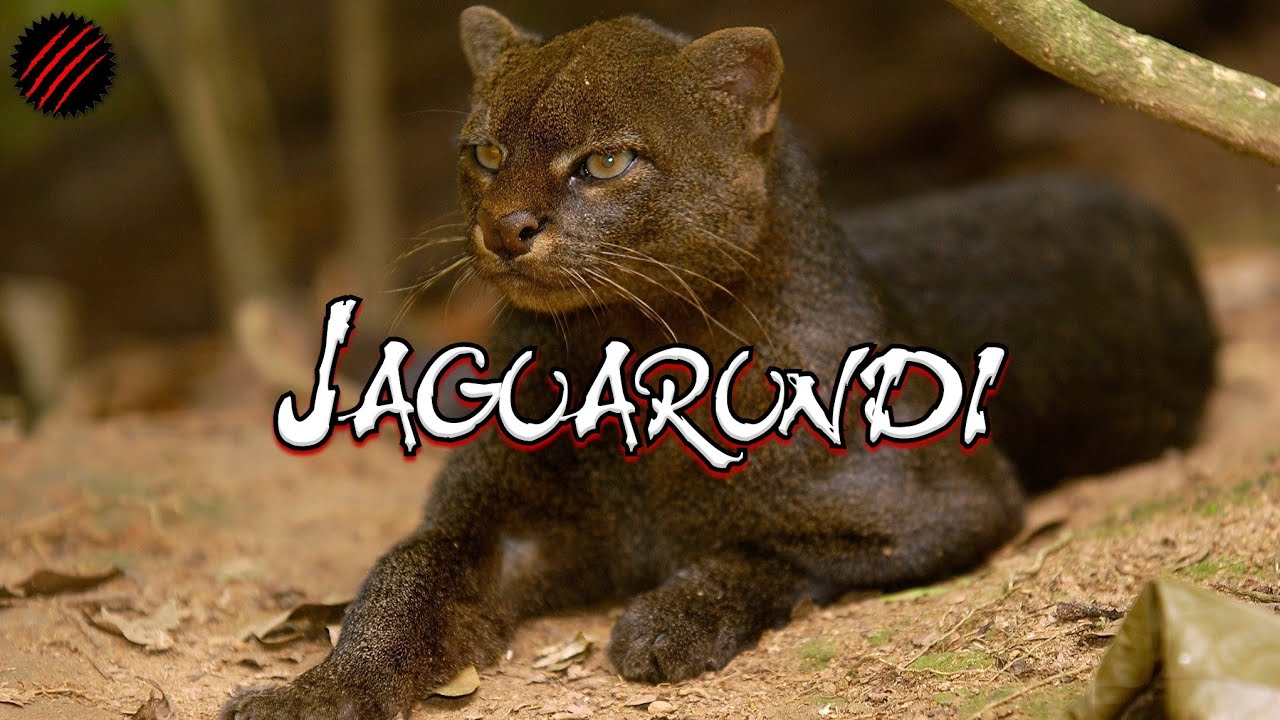Jaguarundi: (228, 7, 1219, 352)
